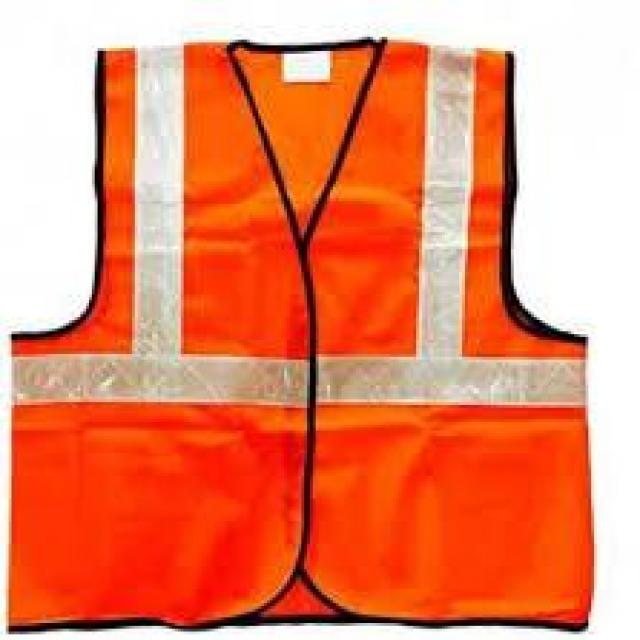Reflective-Jacket: (3, 11, 614, 637)
